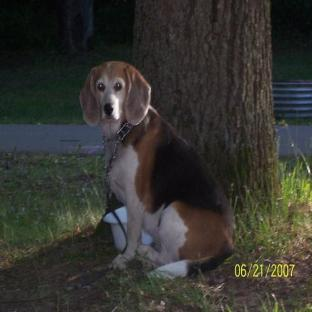Animal: (79, 62, 234, 275)
